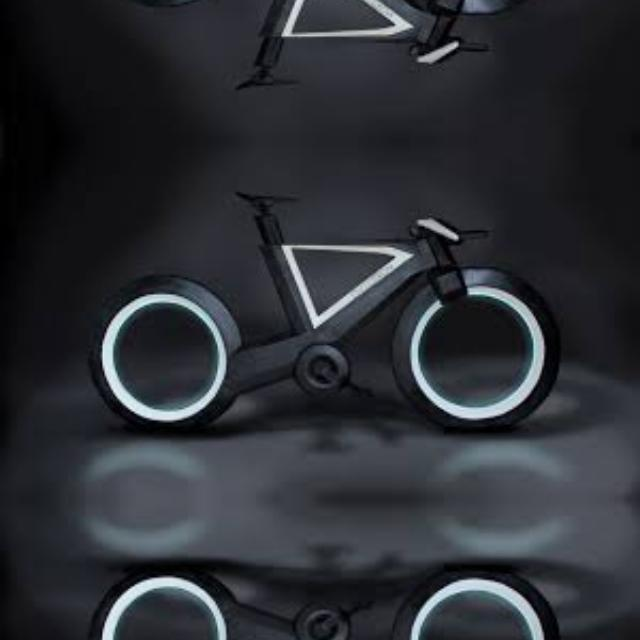obstacle: (99, 188, 573, 440), (99, 0, 573, 91), (99, 557, 573, 640)
